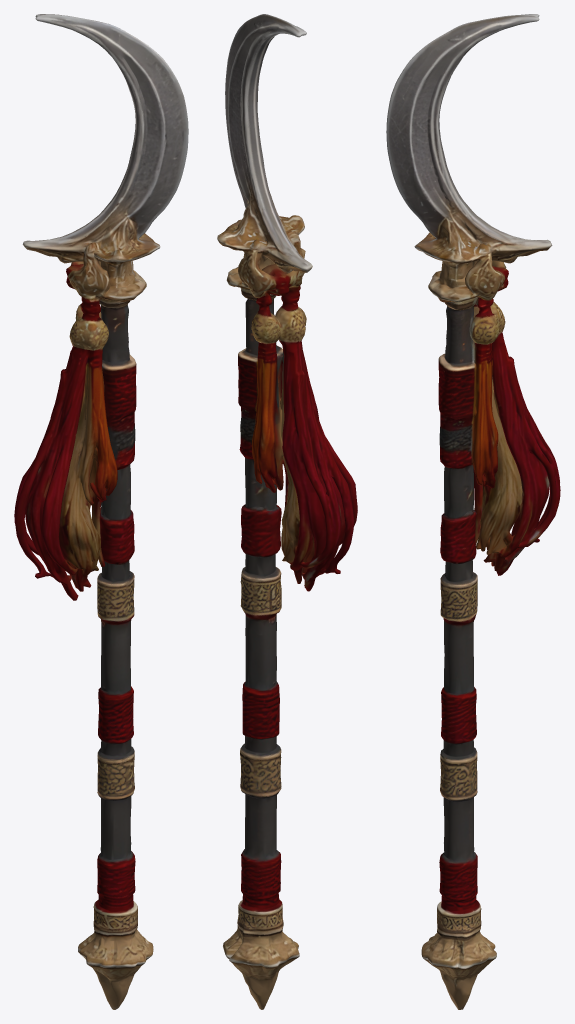
Rendered from look-weapon2-t4-tripo.glb.
3 renders of one model, left to right at view 1: azimuth 90°, elevation 25°; view 2: azimuth 210°, elevation 25°; view 3: azimuth 270°, elevation 25°, orthographic.
Parts seen in each view (by area): view 1: tripo_node_b705840b-e2d5-4e8c-a52c-239e2cb3b7e7; view 2: tripo_node_b705840b-e2d5-4e8c-a52c-239e2cb3b7e7; view 3: tripo_node_b705840b-e2d5-4e8c-a52c-239e2cb3b7e7.
Part boxes in pixels (<box>): tripo_node_b705840b-e2d5-4e8c-a52c-239e2cb3b7e7: <box>14,14,188,1009</box>; tripo_node_b705840b-e2d5-4e8c-a52c-239e2cb3b7e7: <box>217,14,357,1009</box>; tripo_node_b705840b-e2d5-4e8c-a52c-239e2cb3b7e7: <box>386,14,560,1009</box>.
Bounding box in the file's own units: 0.107 × 1 × 0.1587.
Materials: 1 (1 with a texture image).
